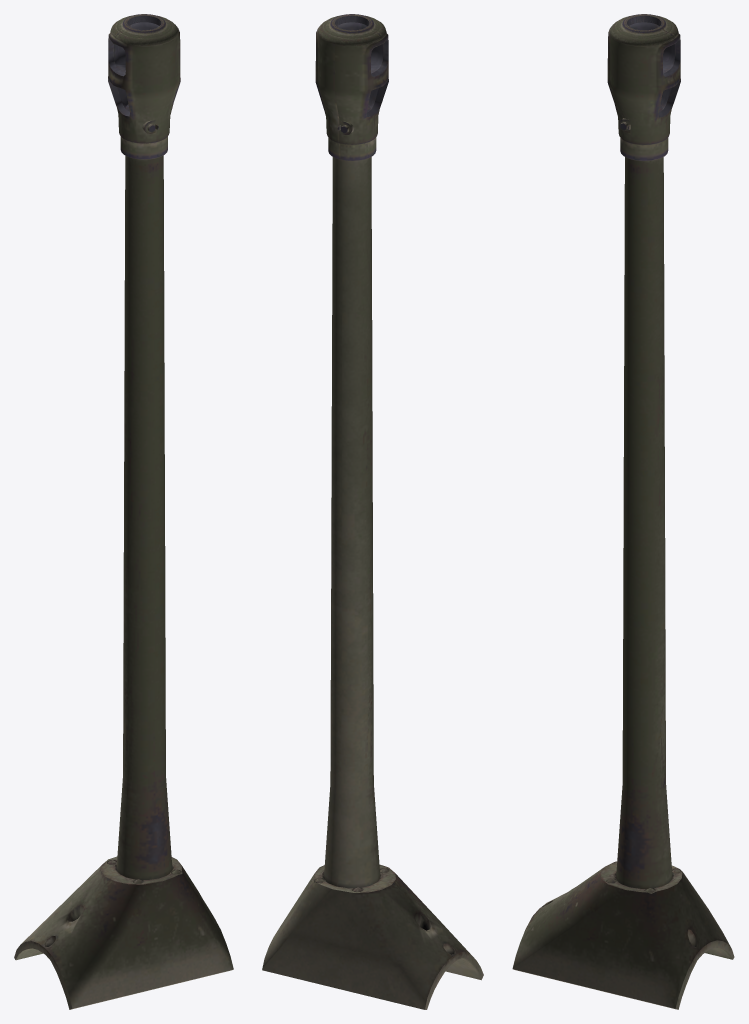
Rendered from Gun_01.glb.
3 renders of one model, left to right at view 1: azimuth 30°, elevation 25°; view 2: azimuth 150°, elevation 25°; view 3: azimuth 330°, elevation 25°, orthographic.
Parts seen in each view (by area): view 1: set_0_group_0; view 2: set_0_group_0; view 3: set_0_group_0.
Part boxes in pixels (x1,y1,x2,y2): set_0_group_0: [14, 14, 233, 1009]; set_0_group_0: [262, 14, 483, 1009]; set_0_group_0: [512, 14, 734, 1009].
Size of the model in its own units: 0.8329 by 4.61 by 0.5189.
Materials: 1 (1 with a texture image).
